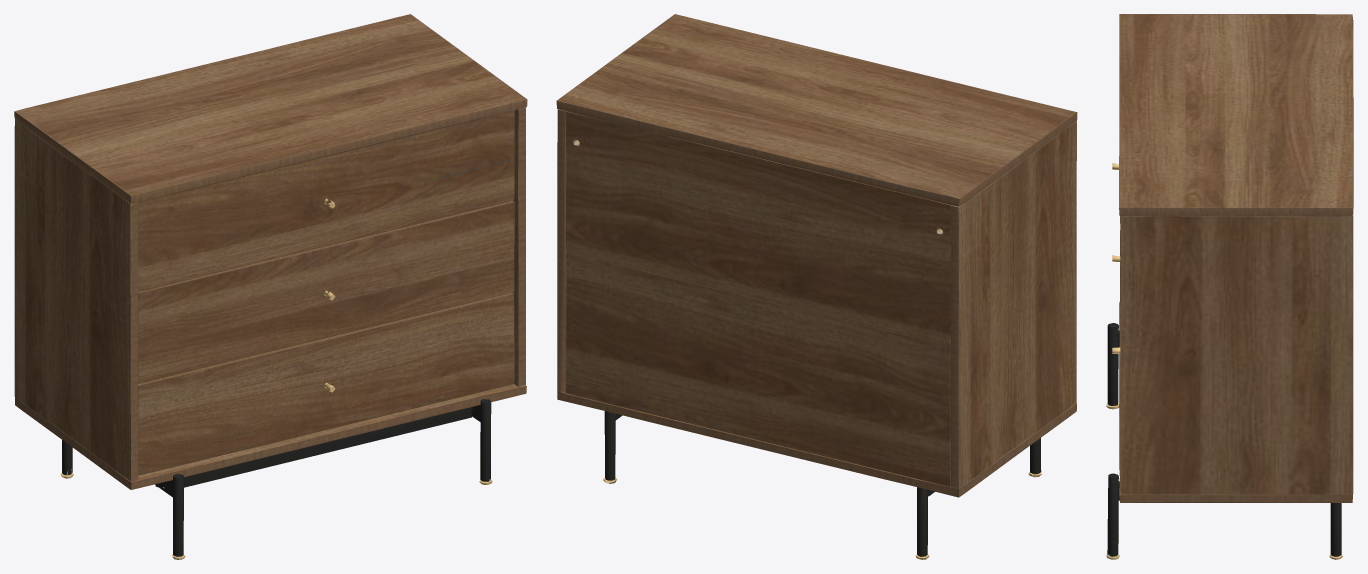
File: 08 - RÅDMANSÖ Chest of 3 drawers - brown walnut effect 90x48x81 cm.glb
3 views of the same model, side by side, from view 1: azimuth 30°, elevation 25°; view 2: azimuth 150°, elevation 25°; view 3: azimuth 270°, elevation 25° (orthographic).
Visible parts, largest first — view 1: ASY_ART_20593604_S01_NV01, ASY_LPT03_20593604_S01_NV01, ASY_LPT01_20593604_S01_NV01, ASY_LPT02_20593604_S01_NV01; view 2: ASY_ART_20593604_S01_NV01; view 3: ASY_ART_20593604_S01_NV01.
Boxes of the visible parts, x1,y1,x2,y2 form: ASY_ART_20593604_S01_NV01: (14,14,527,559); ASY_LPT03_20593604_S01_NV01: (138,292,514,475); ASY_LPT01_20593604_S01_NV01: (138,200,514,383); ASY_LPT02_20593604_S01_NV01: (138,110,514,291); ASY_ART_20593604_S01_NV01: (556,14,1077,559); ASY_ART_20593604_S01_NV01: (1106,14,1353,559).
Bounding box in the file's own units: 0.9033 × 0.8065 × 0.486.
4 materials, 4 textured.
